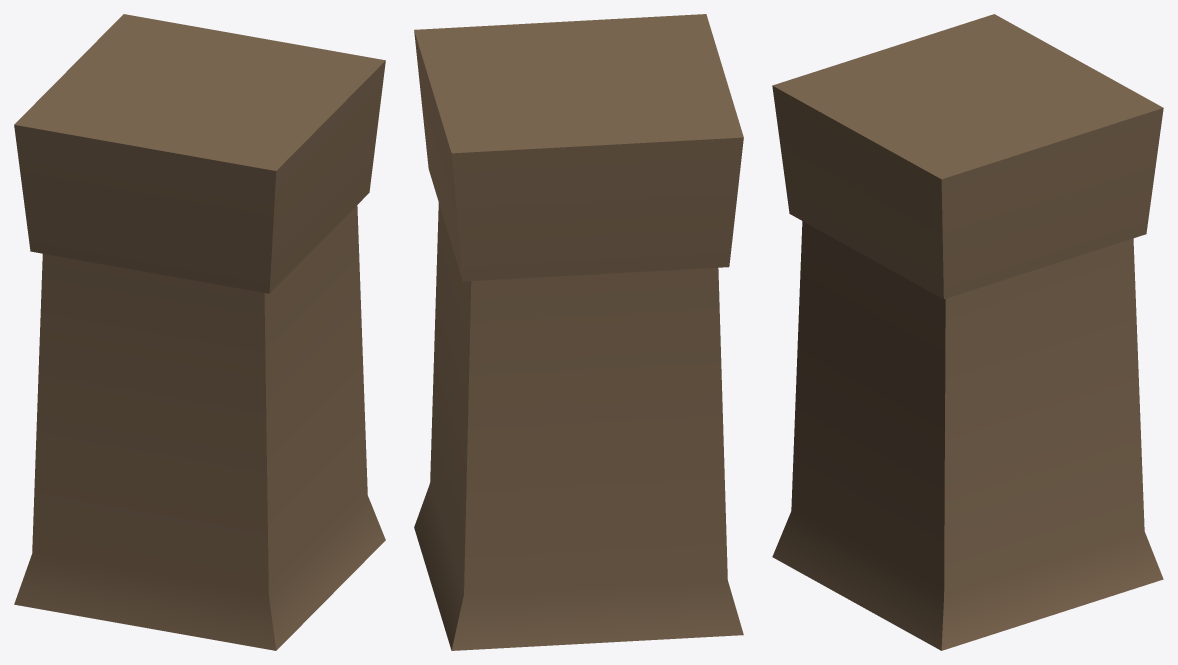
Rendered from misk_stand.fbx.
3 renders of one model, left to right at view 1: azimuth 30°, elevation 25°; view 2: azimuth 150°, elevation 25°; view 3: azimuth 270°, elevation 25°, orthographic. The views are drawn at different scales.
Parts seen in each view (by area): view 1: bookStand_mesh; view 2: bookStand_mesh; view 3: bookStand_mesh.
Part boxes in pixels (x1,y1,x2,y2): bookStand_mesh: (14, 14, 385, 650); bookStand_mesh: (414, 14, 743, 650); bookStand_mesh: (772, 14, 1163, 650).
Bounding box in the file's own units: 0.501 × 0.6659 × 0.501.
